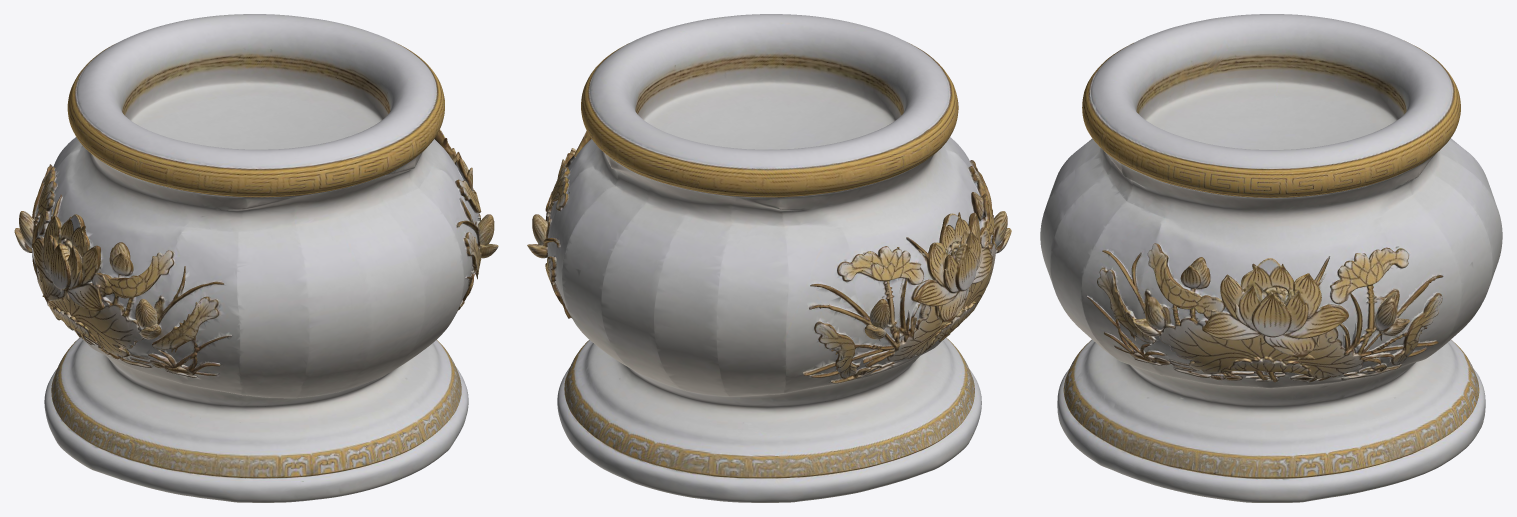
File: porcelain vase 3d model.glb
3 views of the same model, side by side, from view 1: azimuth 30°, elevation 25°; view 2: azimuth 150°, elevation 25°; view 3: azimuth 270°, elevation 25° (orthographic).
Parts seen in each view (by area): view 1: tripo_node_8d7511bb-c555-4bbb-8245-1f6da8037f9c; view 2: tripo_node_8d7511bb-c555-4bbb-8245-1f6da8037f9c; view 3: tripo_node_8d7511bb-c555-4bbb-8245-1f6da8037f9c.
Boxes of the visible parts, left/top/right/bottom form: tripo_node_8d7511bb-c555-4bbb-8245-1f6da8037f9c: left=14, top=14, right=498, bottom=502; tripo_node_8d7511bb-c555-4bbb-8245-1f6da8037f9c: left=527, top=14, right=1011, bottom=502; tripo_node_8d7511bb-c555-4bbb-8245-1f6da8037f9c: left=1040, top=14, right=1502, bottom=502.
Size of the model in its own units: 0.9924 by 0.7928 by 0.9998.
Materials: 1 (1 with a texture image).
